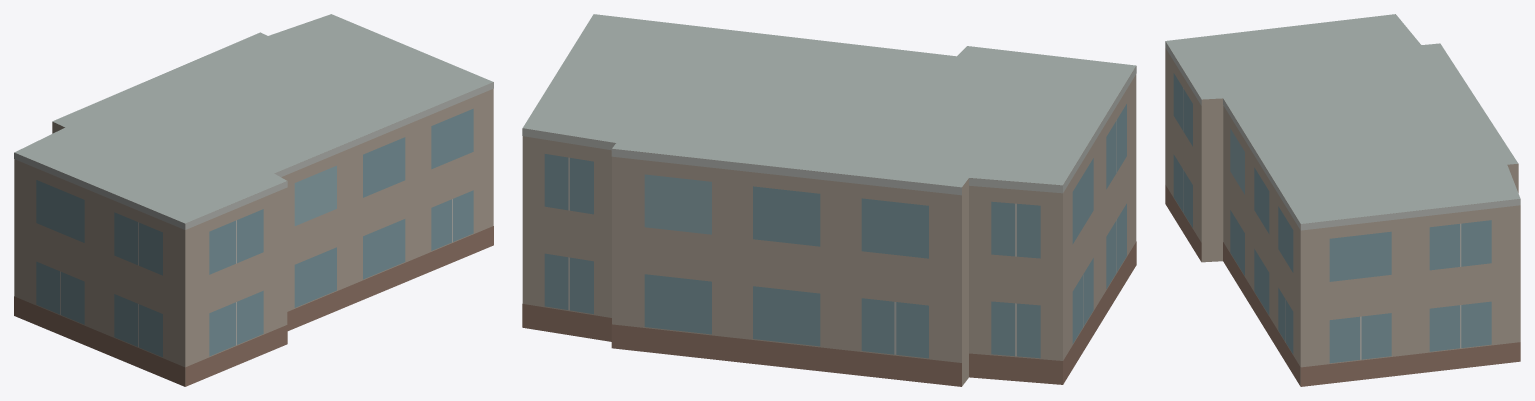
The model's file is survey-upis-32921087.glb.
3 renders of one model, left to right at view 1: azimuth 30°, elevation 25°; view 2: azimuth 150°, elevation 25°; view 3: azimuth 270°, elevation 25°, orthographic. The views are drawn at different scales.
Visible parts, largest first — view 1: survey-upis-32921087.tmp; view 2: survey-upis-32921087.tmp; view 3: survey-upis-32921087.tmp.
Boxes of the visible parts, x1=… form: survey-upis-32921087.tmp: x1=14, y1=14, x2=493, y2=386; survey-upis-32921087.tmp: x1=522, y1=14, x2=1136, y2=386; survey-upis-32921087.tmp: x1=1165, y1=14, x2=1520, y2=386.
Size of the model in its own units: 16.89 by 6.1 by 12.07.
